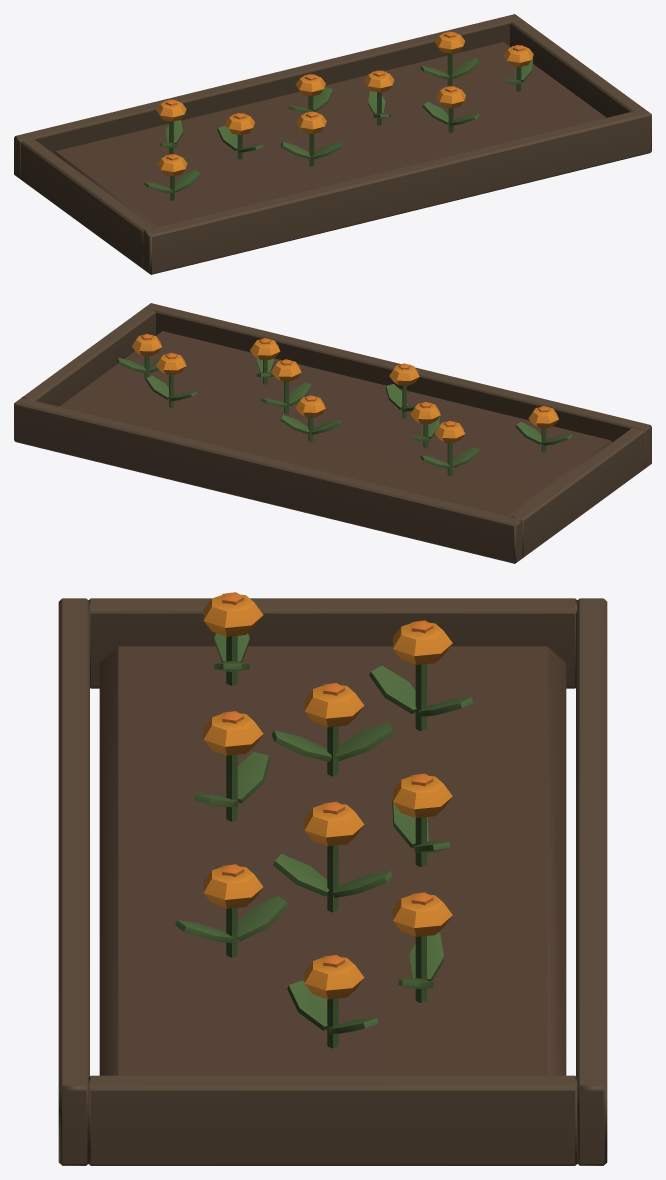
The model's file is flowerbed_marigold.glb.
3 views of the same model, one above another, from view 1: azimuth 30°, elevation 25°; view 2: azimuth 150°, elevation 25°; view 3: azimuth 270°, elevation 25° (orthographic). The views are drawn at different scales.
Parts seen in each view (by area): view 1: flowerbed_marigold; view 2: flowerbed_marigold; view 3: flowerbed_marigold.
Boxes of the visible parts, x1,y1,x2,y2 form: flowerbed_marigold: [14, 14, 651, 274]; flowerbed_marigold: [14, 303, 651, 563]; flowerbed_marigold: [58, 592, 607, 1165].
Bounding box in the file's own units: 1.84 × 0.2882 × 0.87.
